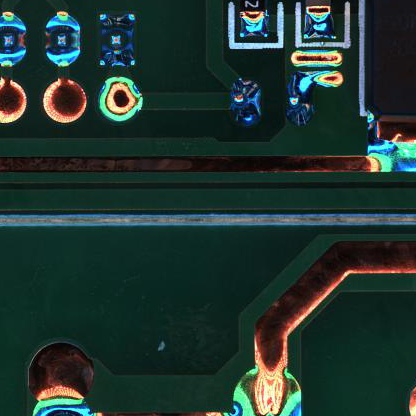spot: (95, 9, 140, 70), (42, 10, 83, 72), (225, 76, 268, 132), (1, 12, 28, 75)
